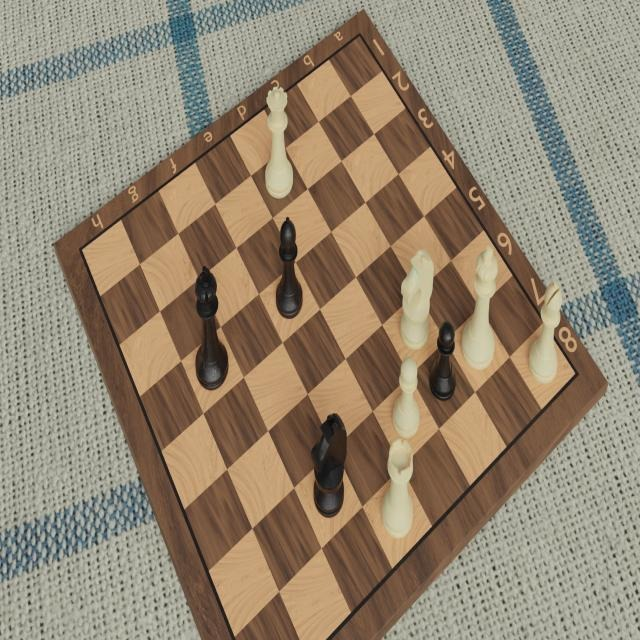black-bishop: (272, 215, 304, 323)
black-king: (191, 261, 233, 394)
black-knight: (311, 409, 349, 521)
black-pawn: (427, 319, 459, 405)
white-bishop: (525, 269, 563, 393)
white-king: (458, 245, 497, 379)
white-knight: (397, 244, 435, 352)
white-pawn: (390, 352, 422, 444)
white-queen: (258, 81, 294, 202)
white-rook: (379, 436, 417, 543)
